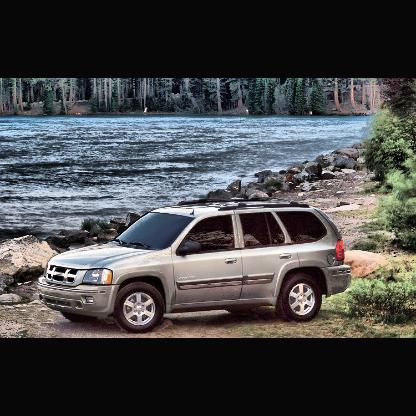Isuzu Ascender SUV 2008: (38, 205, 354, 323)
